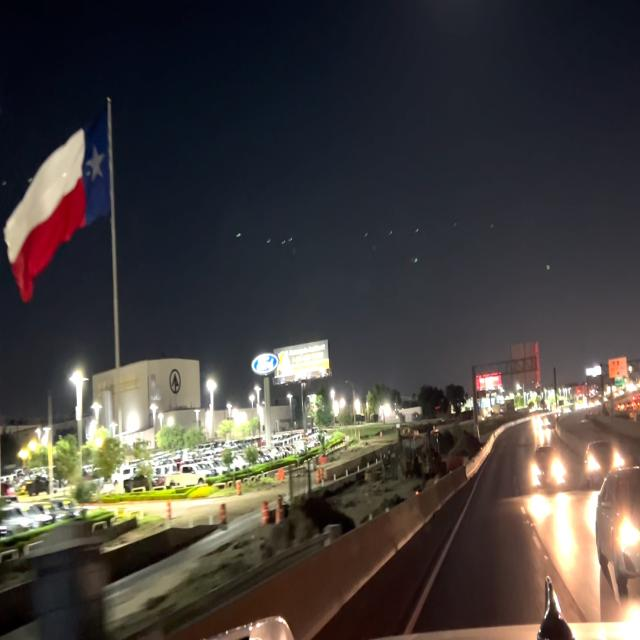back-of-sign: (506, 335, 543, 391)
